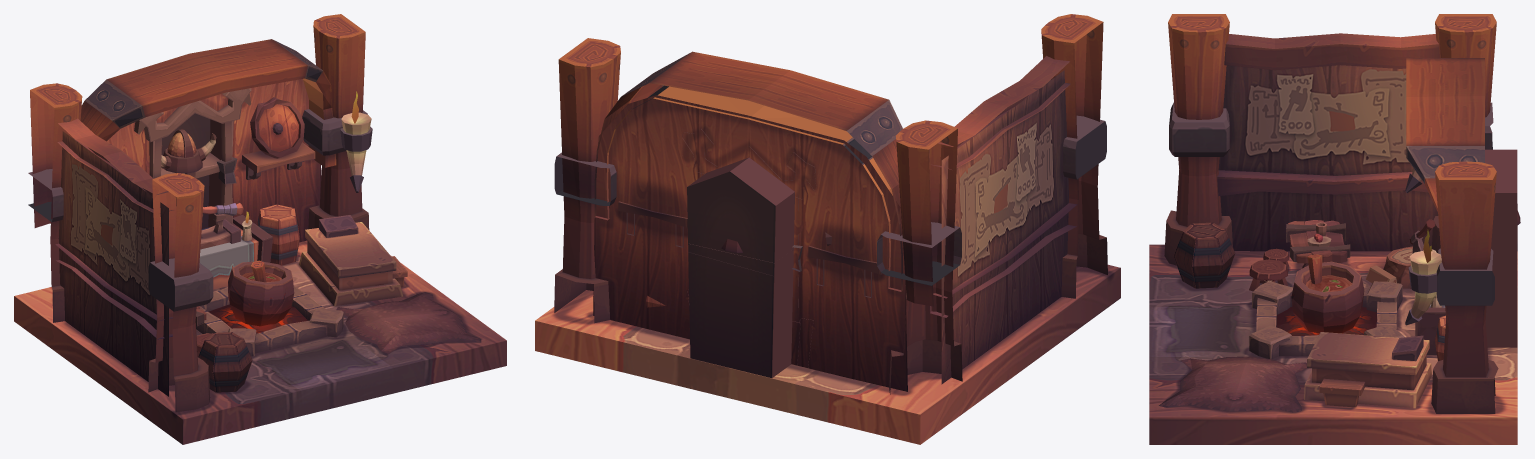
File: viking_mod.obj
3 views of the same model, side by side, from view 1: azimuth 30°, elevation 25°; view 2: azimuth 150°, elevation 25°; view 3: azimuth 270°, elevation 25° (orthographic). The views are drawn at different scales.
Visible parts, largest first — view 1: Viking; view 2: Viking; view 3: Viking.
Part boxes in pixels (box(x1,y1,x2,y2)): Viking: box(14, 14, 506, 444); Viking: box(535, 14, 1120, 444); Viking: box(1149, 14, 1520, 444).
Bounding box in the file's own units: 26.31 × 18.6 × 23.91.
